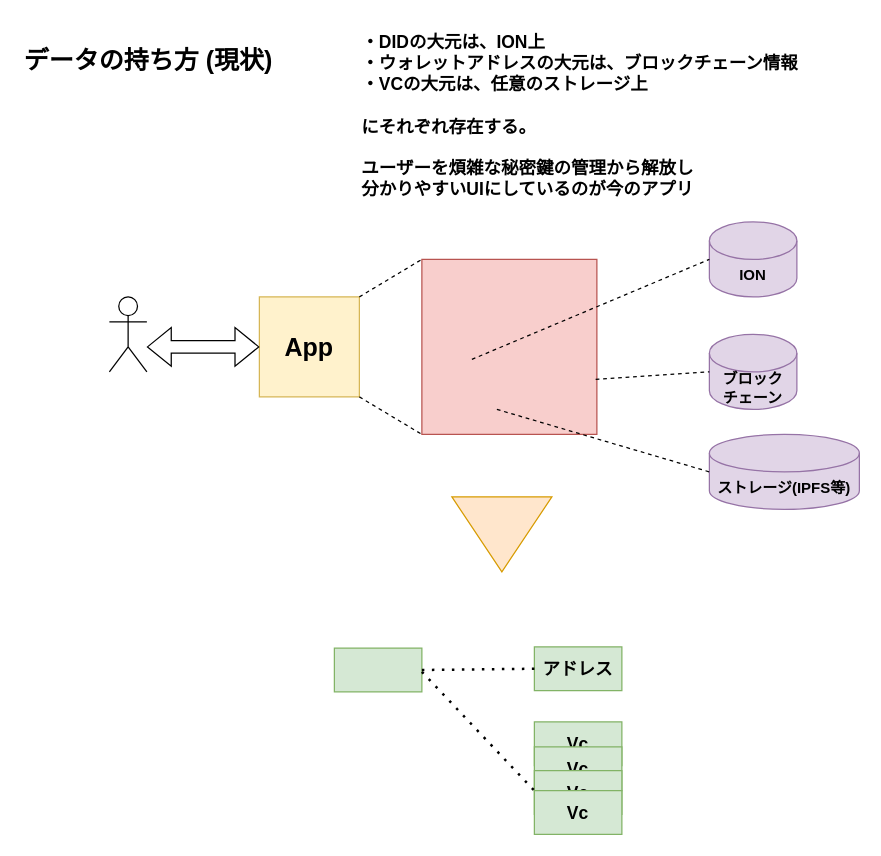
The diagram is 881 pixels wide and 856 high, and some of its shapes have lost their labels. Here are the shapes that lost their labels. From the top down, the centre of each, then its label:
At [127,334]: "ユーザー".
At [509,346]: "登録データ(Soul) (スマコンで管理) ・DID ・ウォレットアドレス ・VC (配列)".
At [377,669]: "DID".
